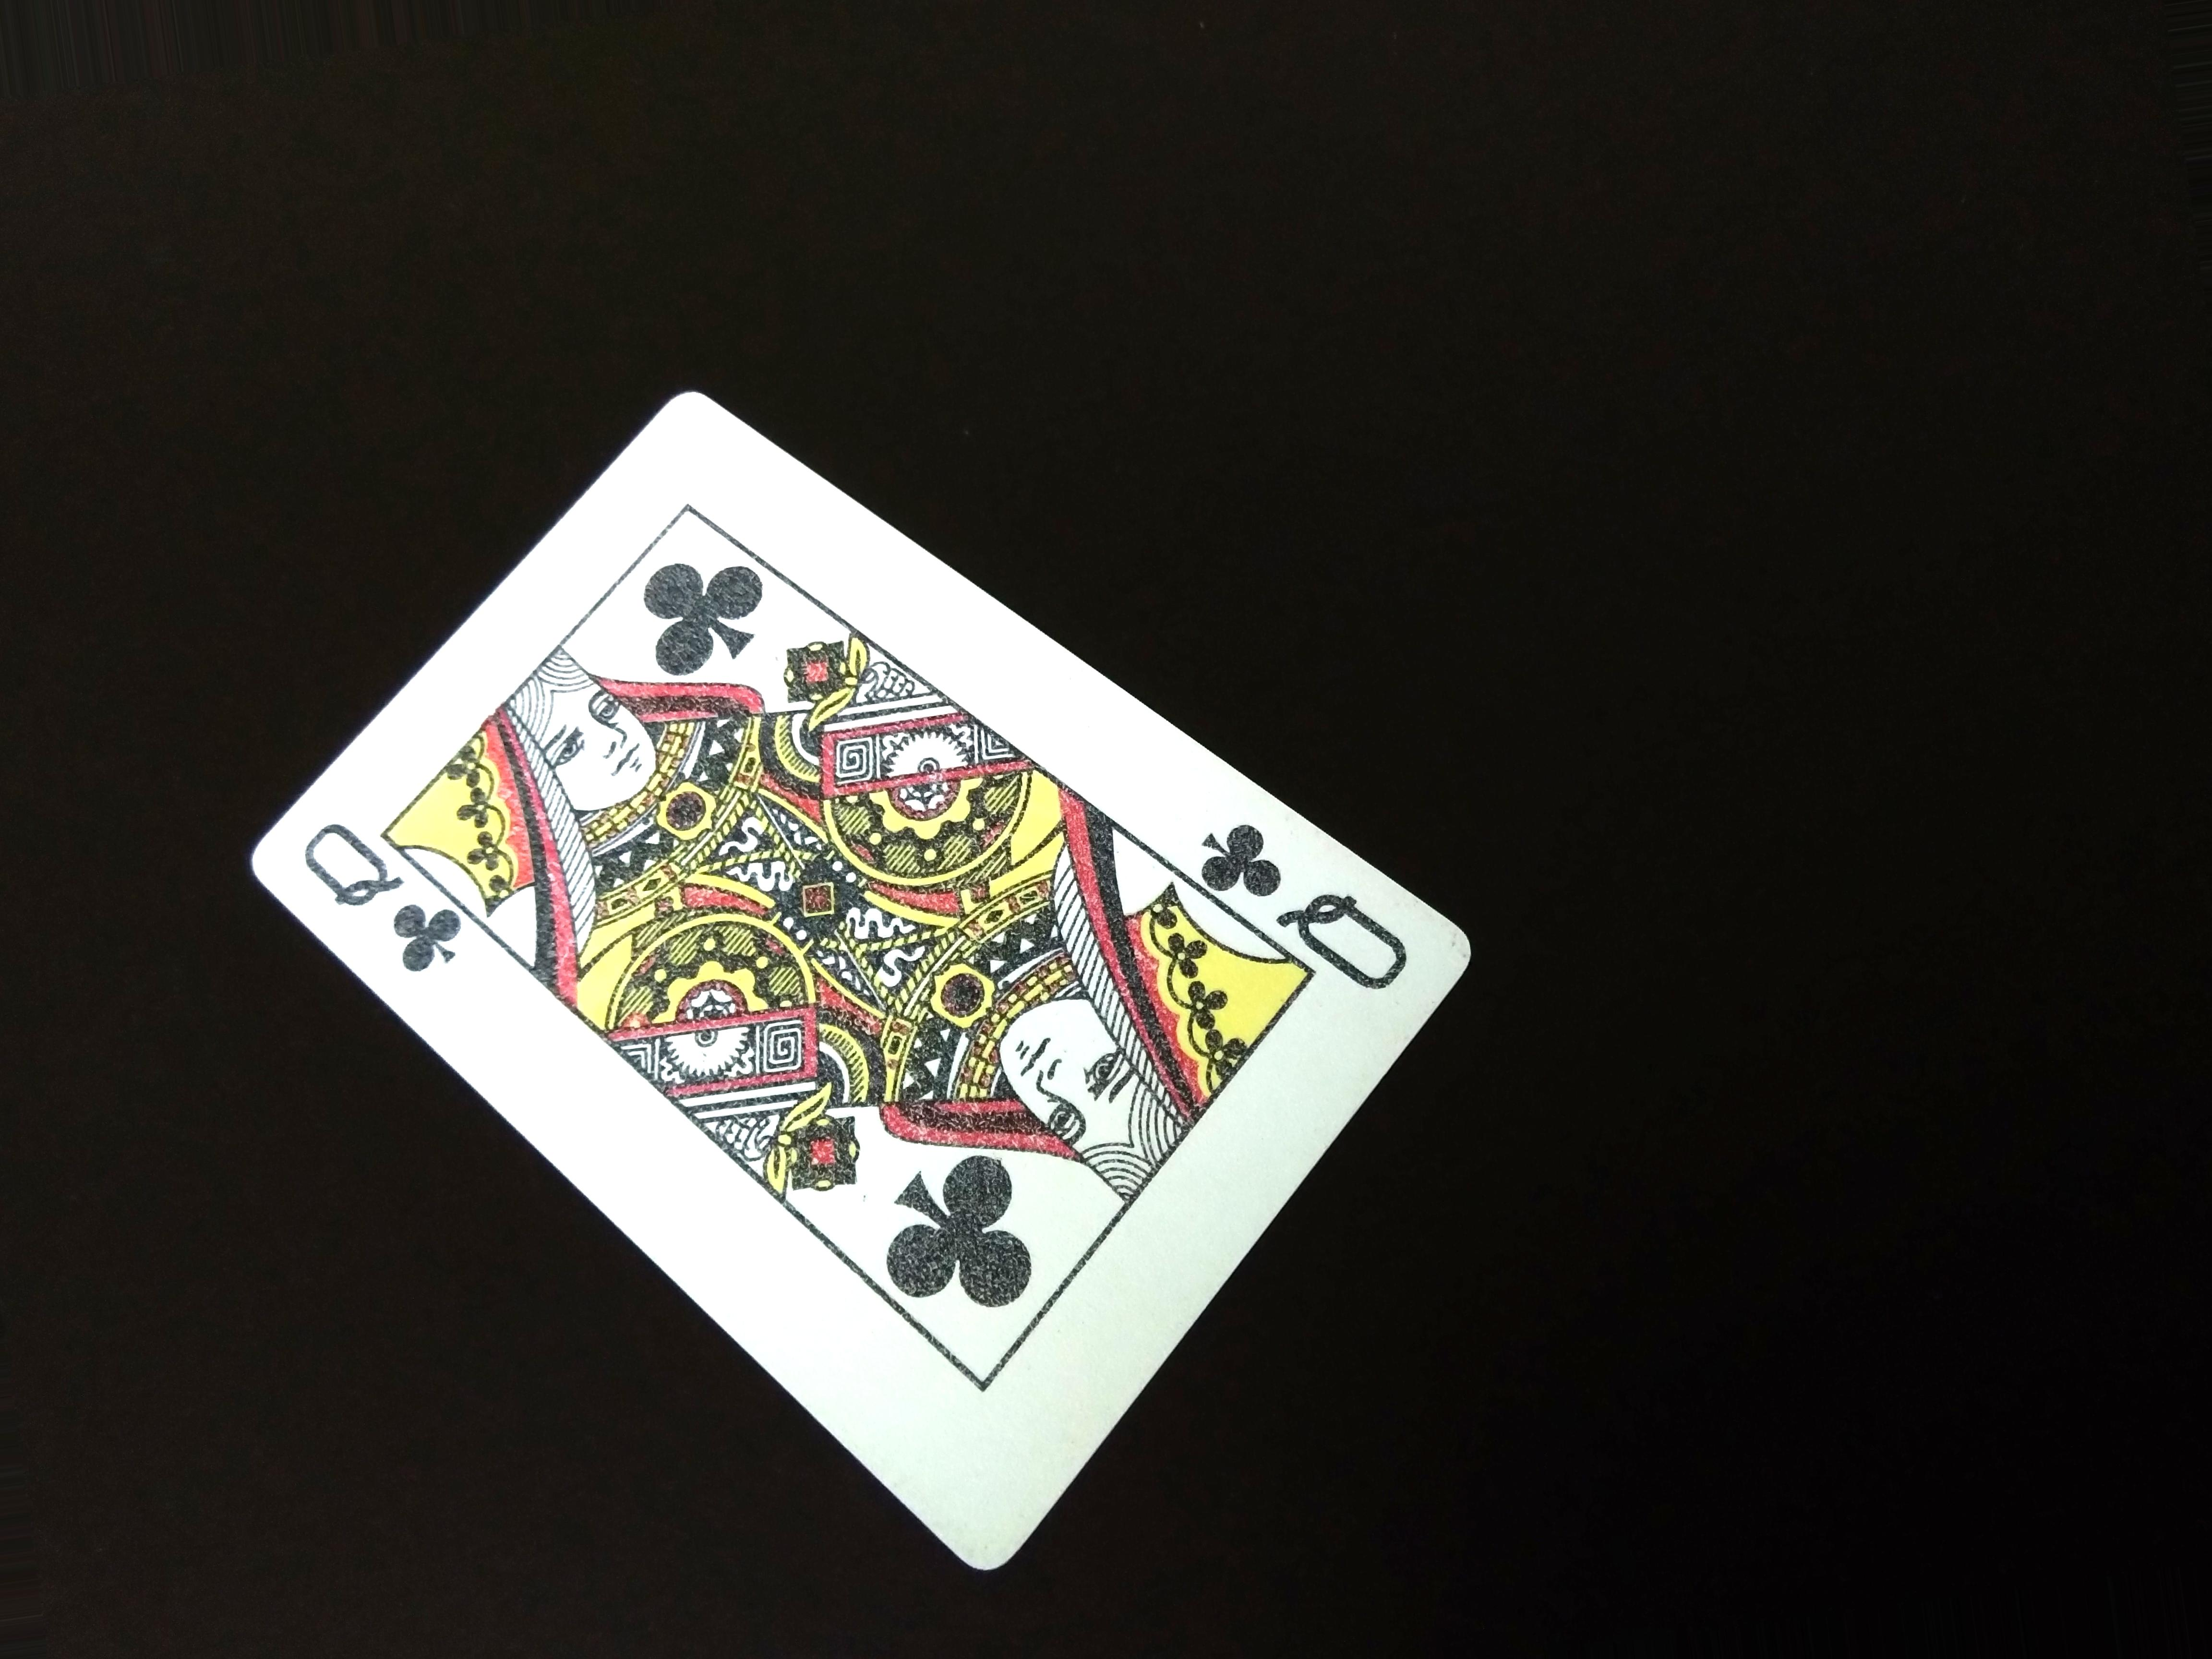QC: (266, 809, 477, 1000)
